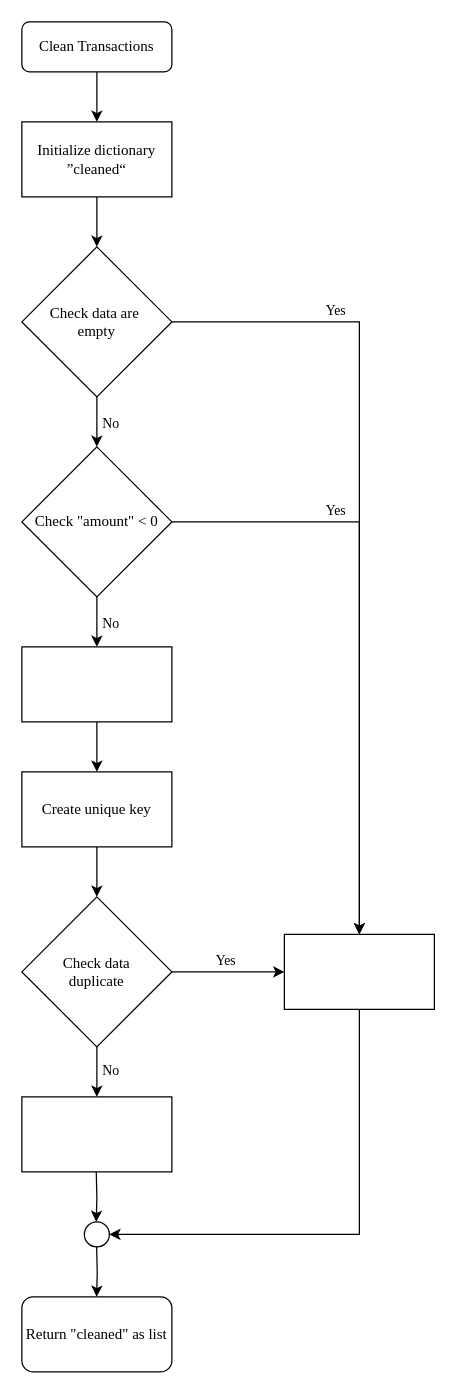
The diagram is 456 pixels wide and 1394 high, and some of its shapes have lost their labels. The shapes that lost their labels are listed below. From the top down, each one's centre as x and y in pixels, then its label:
point (96, 684): Convert "amount" to float and remove $
point (358, 971): Skip transaction
point (96, 1134): Add data to "cleaned"
